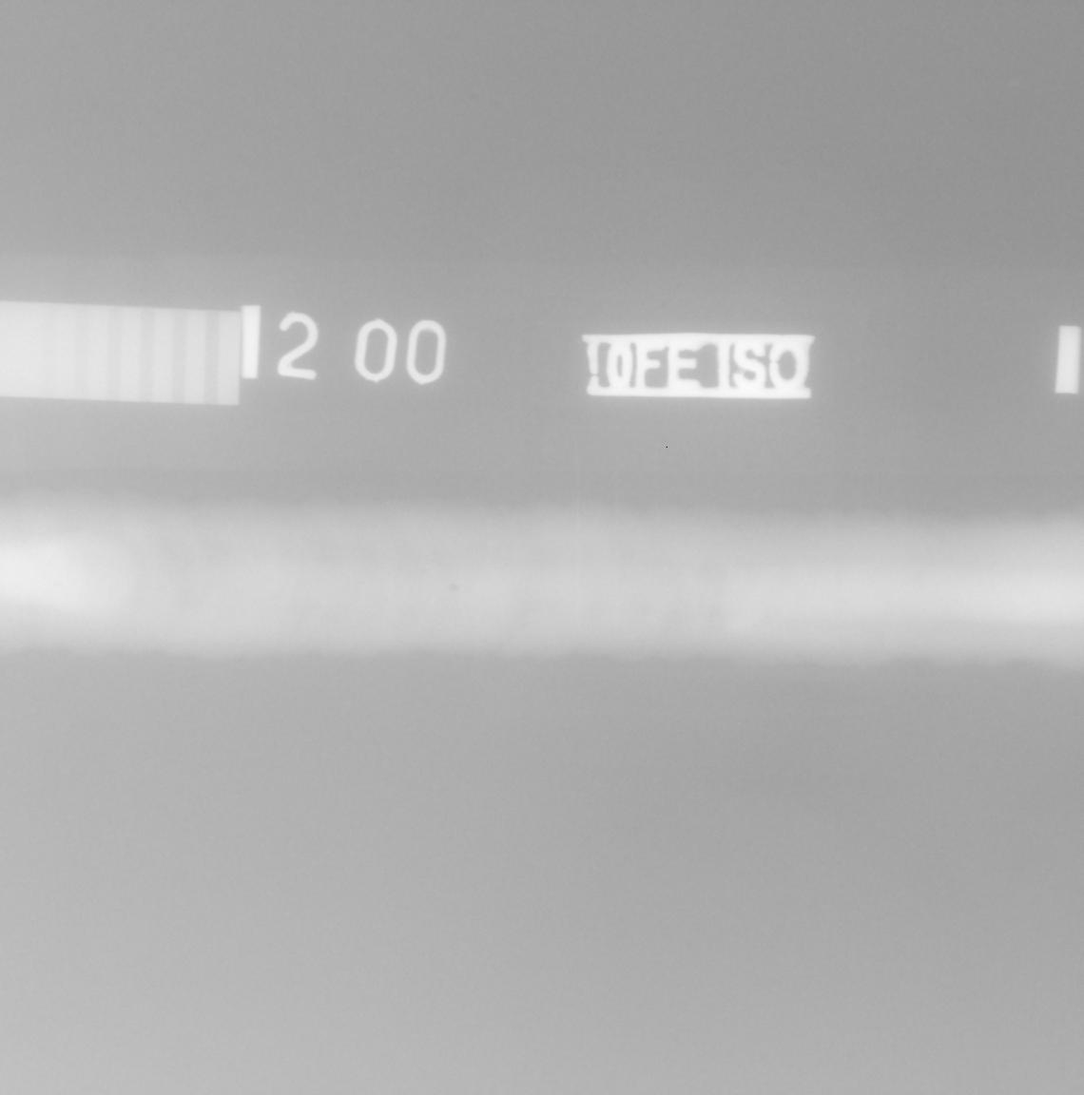Pore/Porosity: (449, 584, 457, 592), (419, 567, 427, 573), (57, 583, 63, 588)
